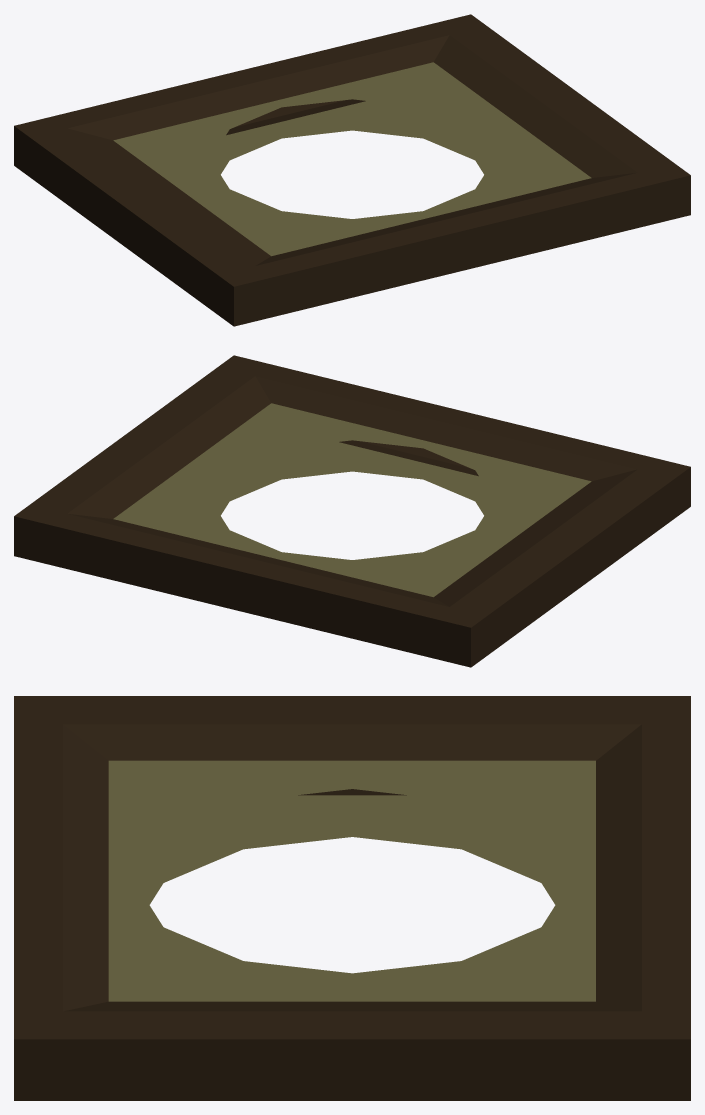
The model's file is OBJ_Tile_Sol_Tuyau.fbx.
3 views of the same model, one above another, from view 1: azimuth 30°, elevation 25°; view 2: azimuth 150°, elevation 25°; view 3: azimuth 270°, elevation 25° (orthographic). The views are drawn at different scales.
Visible parts, largest first — view 1: Tile_sol_Tuyau; view 2: Tile_sol_Tuyau; view 3: Tile_sol_Tuyau.
Boxes of the visible parts, x1=… form: Tile_sol_Tuyau: x1=14, y1=14, x2=690, y2=326; Tile_sol_Tuyau: x1=14, y1=355, x2=690, y2=667; Tile_sol_Tuyau: x1=14, y1=696, x2=690, y2=1100.
Size of the model in its own units: 1200 by 100 by 1000.
